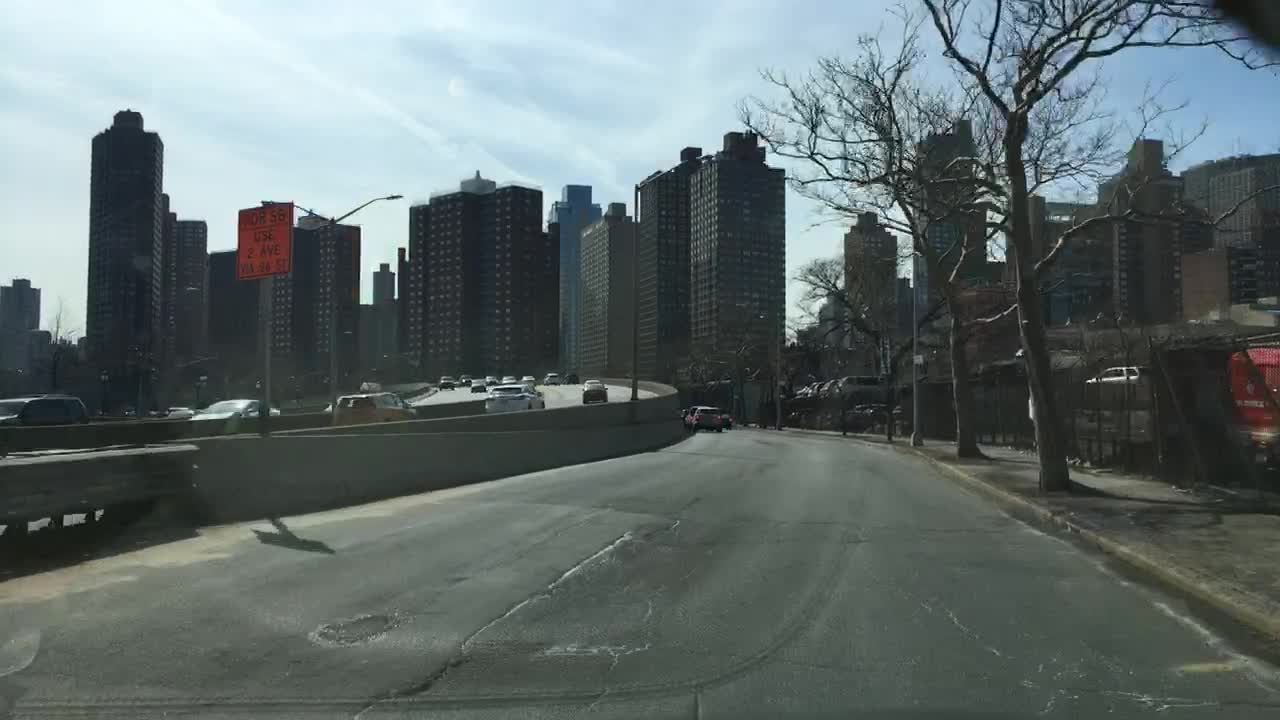bus: (832, 376, 891, 394)
car: (318, 392, 419, 426), (0, 393, 88, 426), (190, 398, 280, 420), (1086, 362, 1154, 387), (486, 386, 545, 411), (694, 408, 723, 430), (582, 378, 607, 402), (817, 378, 835, 398), (358, 381, 385, 393), (809, 377, 822, 395), (469, 379, 485, 393), (440, 375, 454, 390), (502, 371, 517, 384), (721, 413, 734, 428), (545, 372, 562, 383), (173, 410, 193, 419), (459, 372, 471, 384), (146, 408, 163, 416), (565, 373, 579, 382), (796, 386, 810, 395), (485, 375, 498, 384), (126, 409, 138, 416), (681, 405, 687, 418), (524, 374, 533, 382)
traffic sign: (236, 200, 295, 277)
truck: (1221, 347, 1278, 474)
